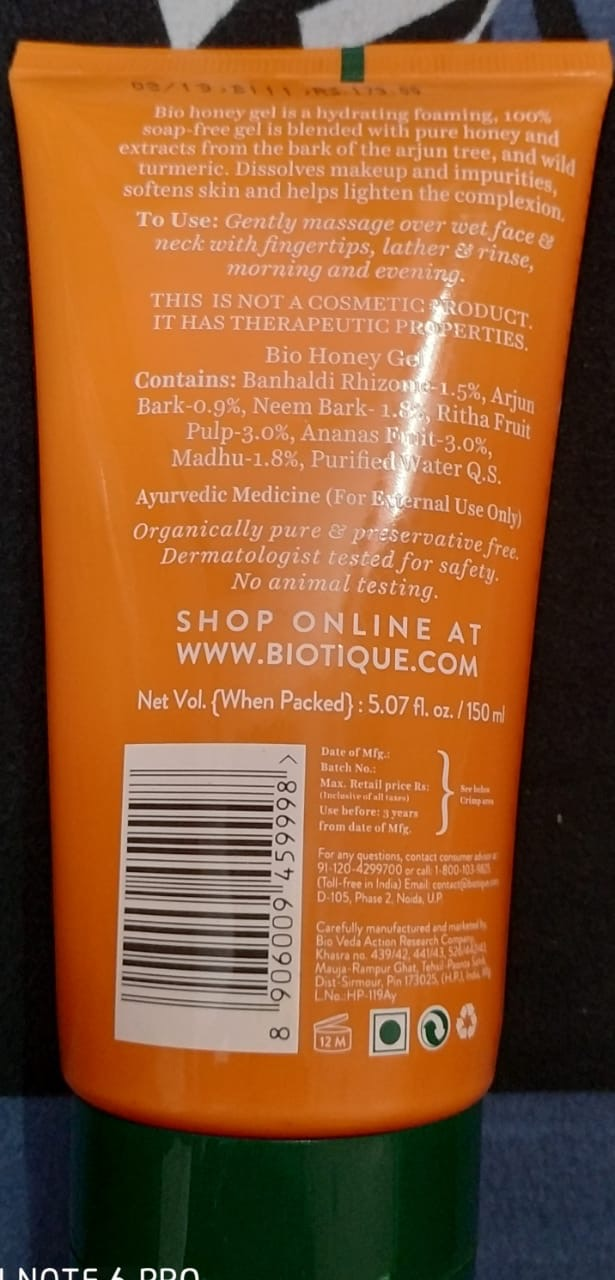barcode: (122, 741, 297, 1048)
